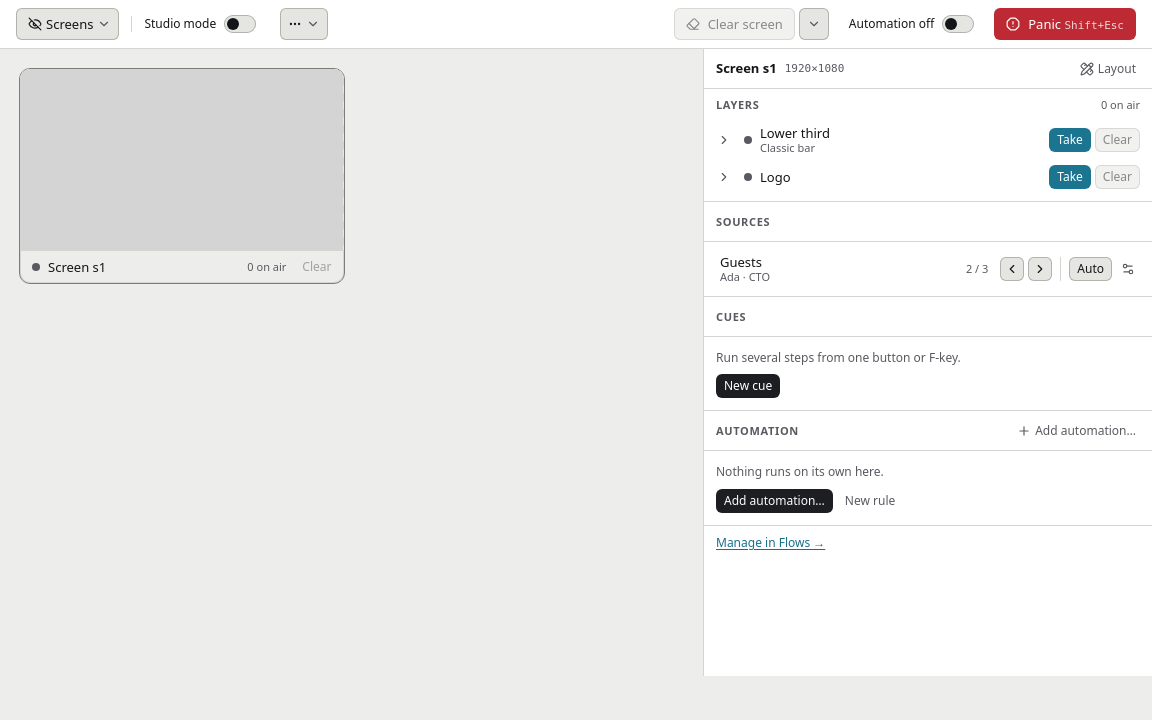
it: Control auto-advance › settings (lazy popover) are remembered while off and applied at once while on
This screenshot has width=1152, height=720.
Click the button named "Auto-advance settings of Guests" at point(1128, 269), box [1116, 257, 1140, 281]
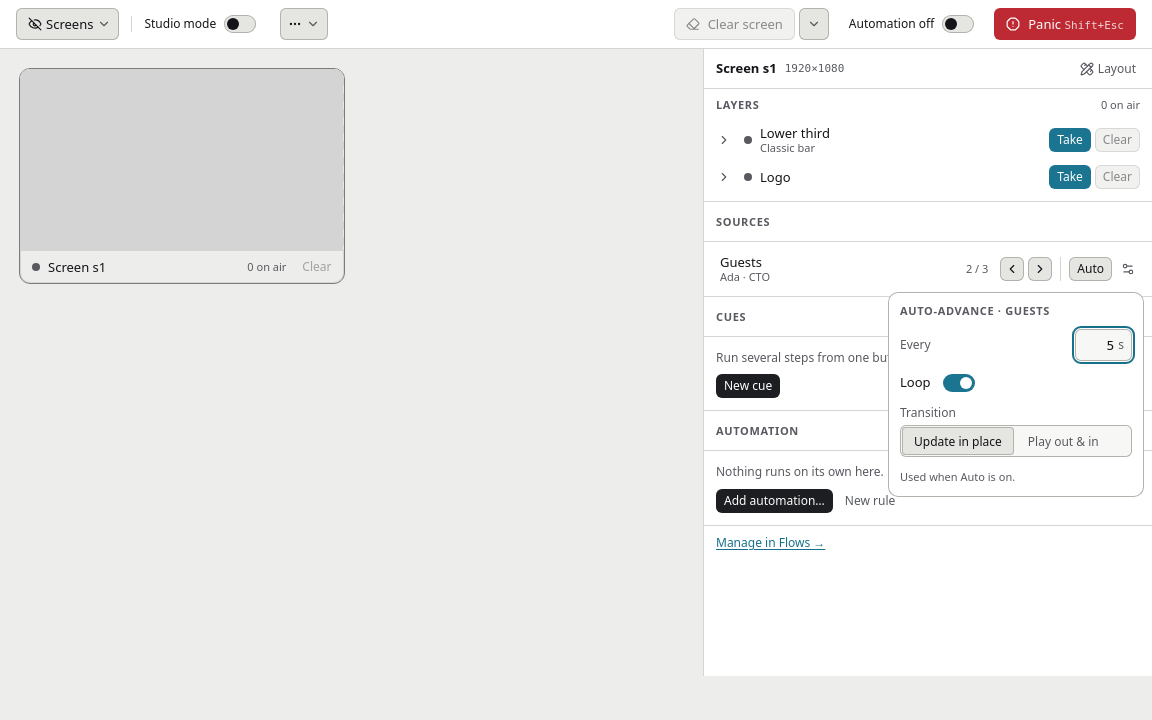
Replace the text in the number field labelled "Every" with "12" at point(1097, 345), box [1075, 329, 1118, 361]
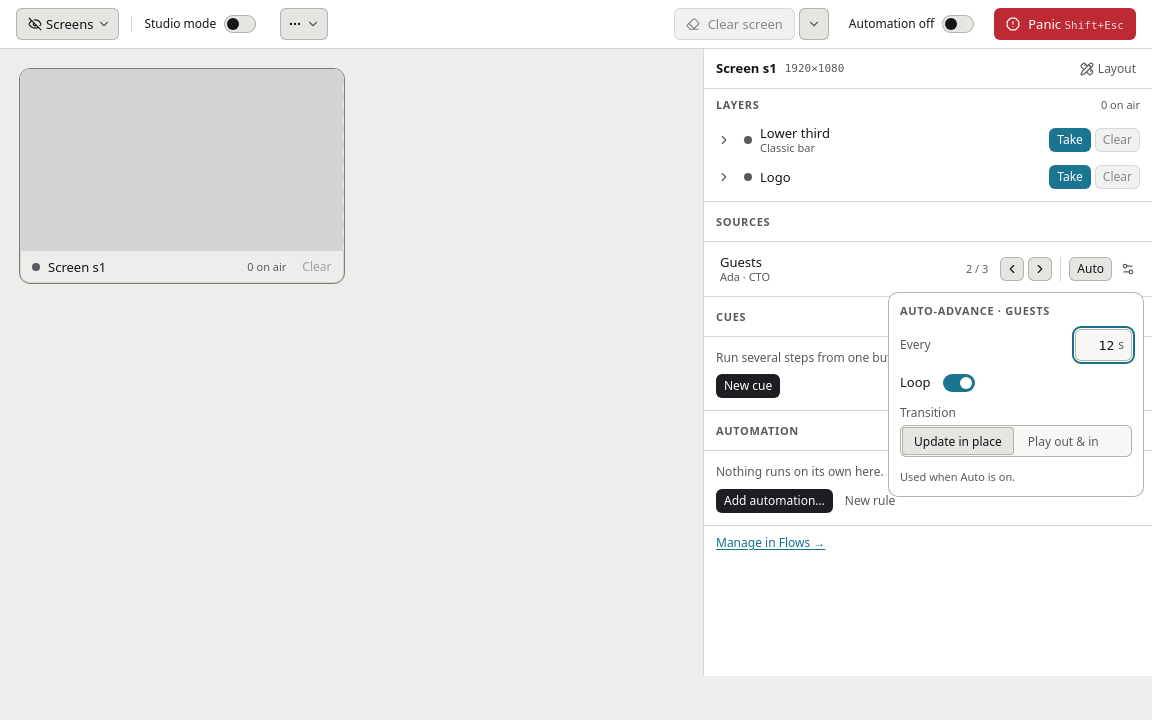
Click the radio button labelled "Play out & in" at point(1063, 441), box [1016, 427, 1111, 455]
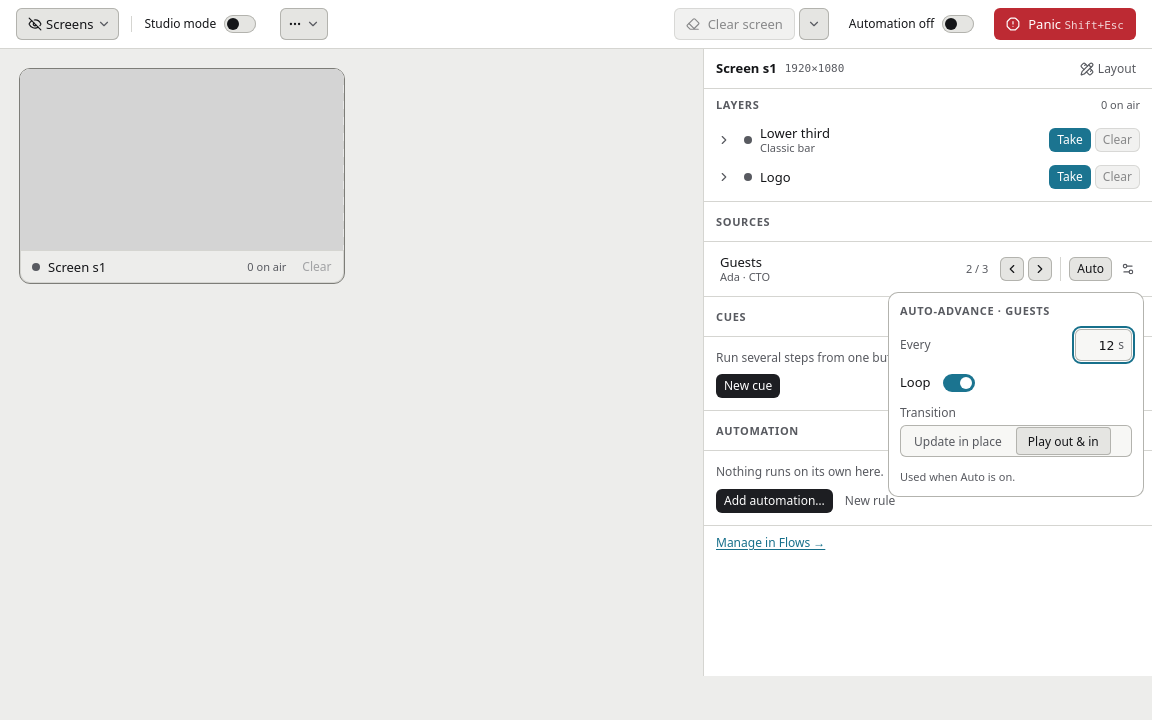
Result: the dialog "Auto-advance" shows "Used when Auto is on" at [900, 469, 1015, 484]
Click the button with aria-label "Auto-advance Guests" at point(1091, 269), box [1069, 257, 1112, 281]
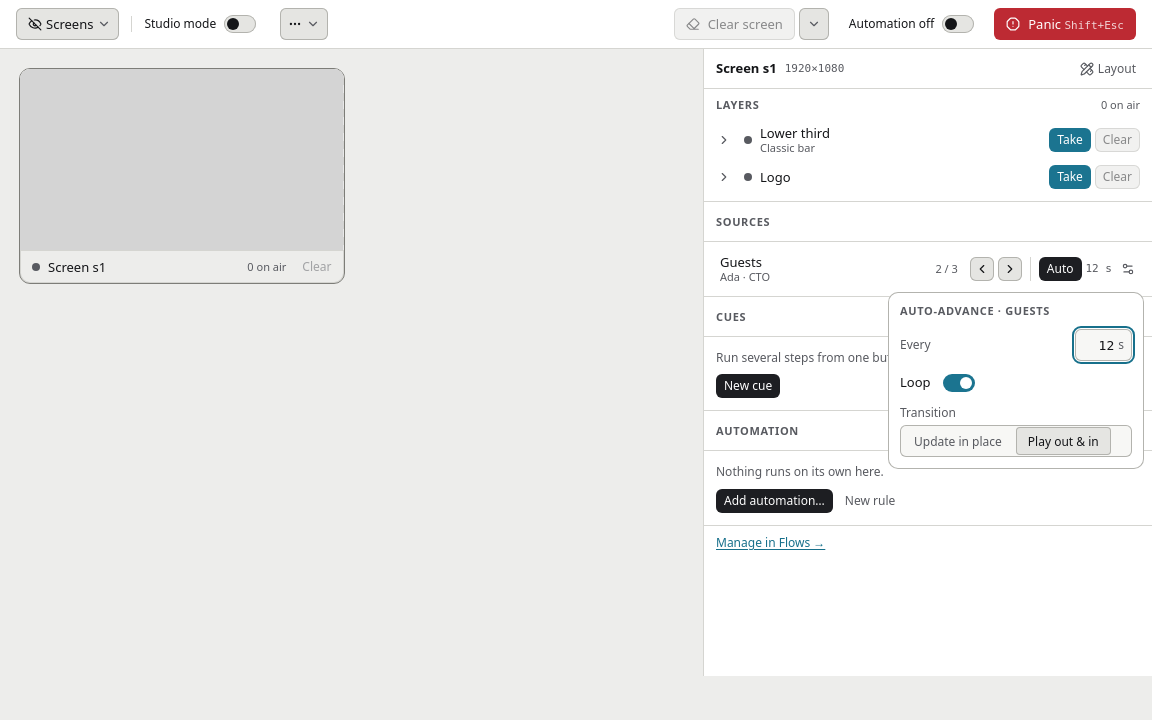
Click the switch named "Loop" next to "Loop" at point(958, 382), box [942, 374, 974, 392]
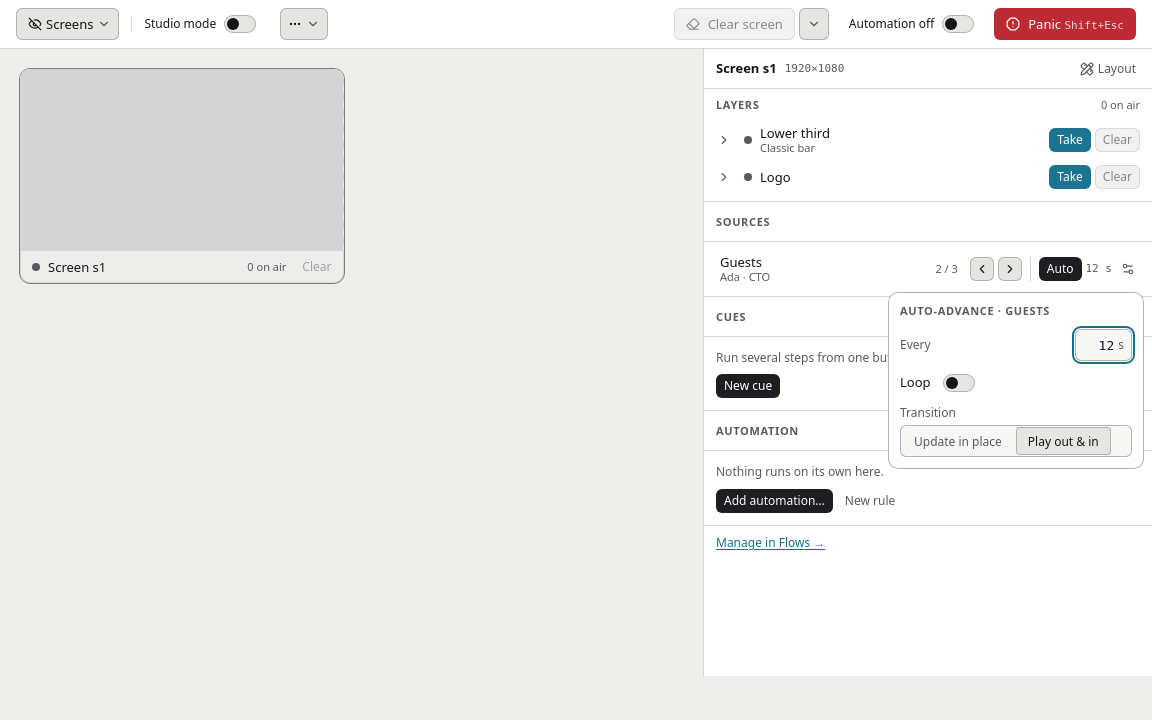
Press Escape in the dialog "Auto-advance", box [888, 292, 1144, 469]
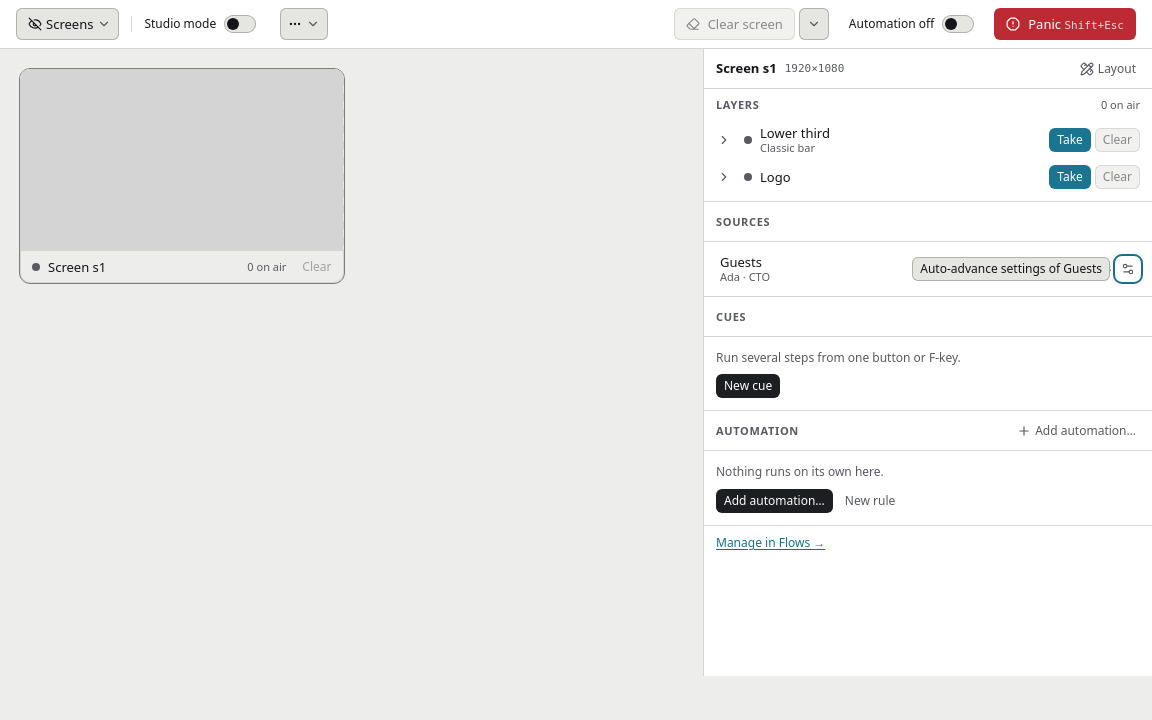
Result: the heading "Auto-advance" is gone
